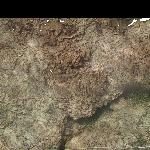dead: (7, 23, 147, 146)
